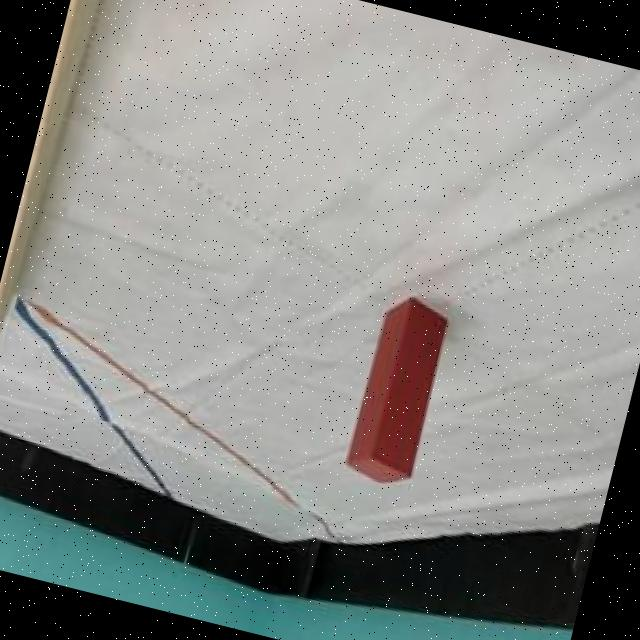redbox: (342, 292, 457, 496)
